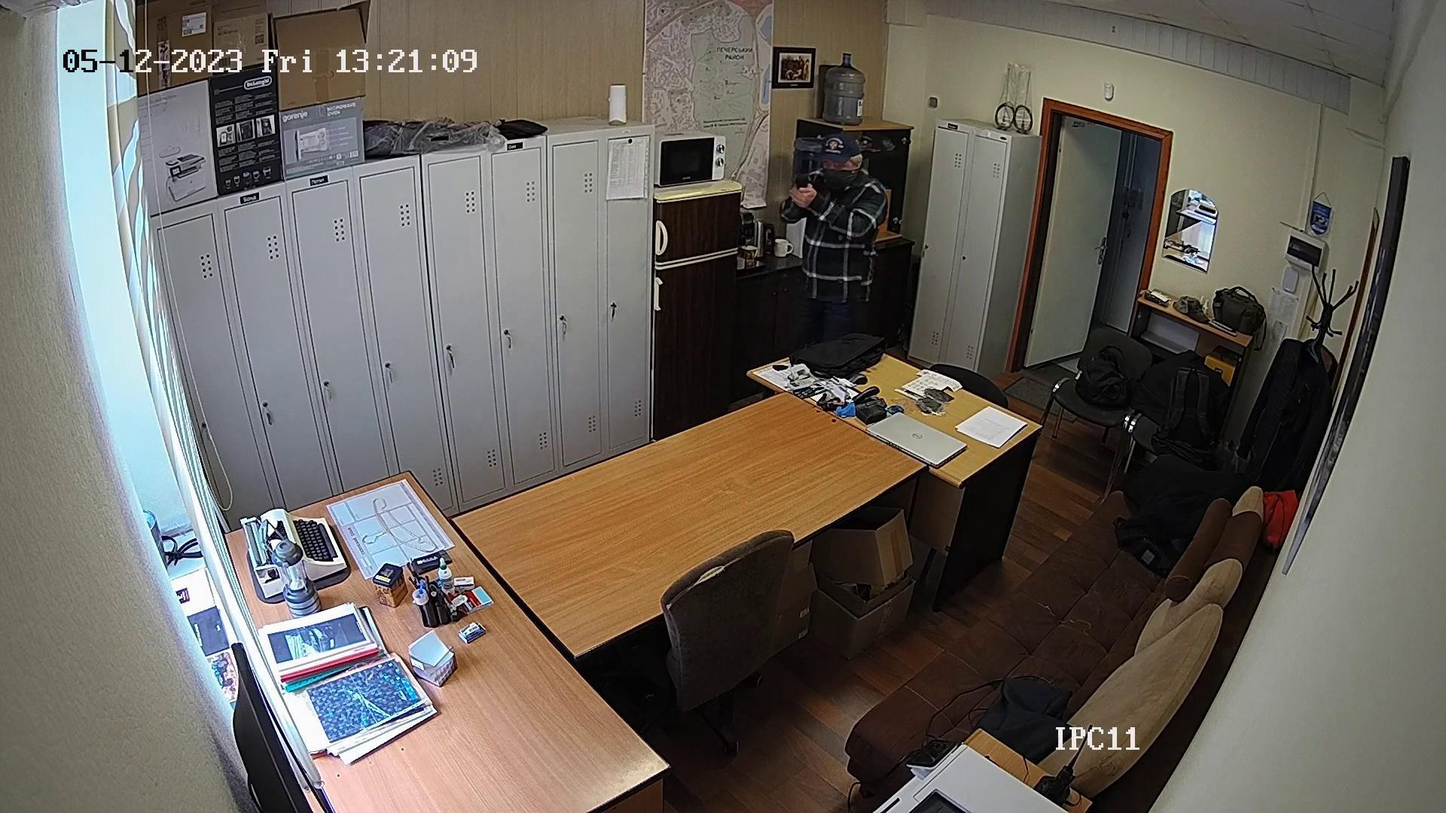person: (778, 133, 888, 342)
pistol: (790, 171, 810, 192)
